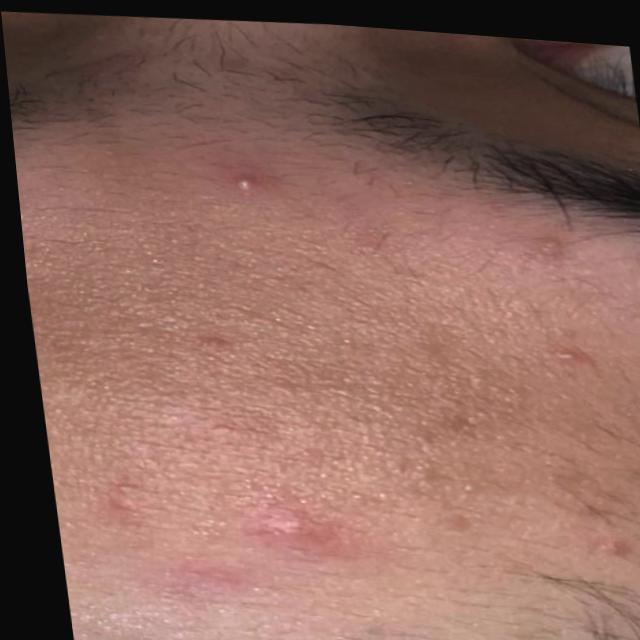papule: (66, 460, 367, 608)
pustule: (526, 321, 587, 368), (220, 159, 264, 193)
